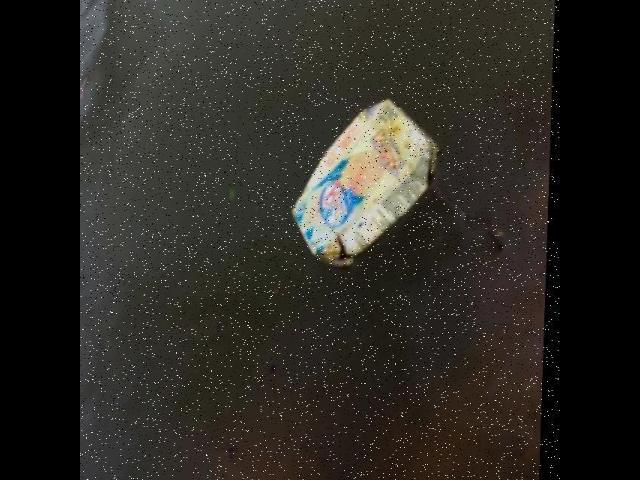Box: (287, 90, 443, 272)
